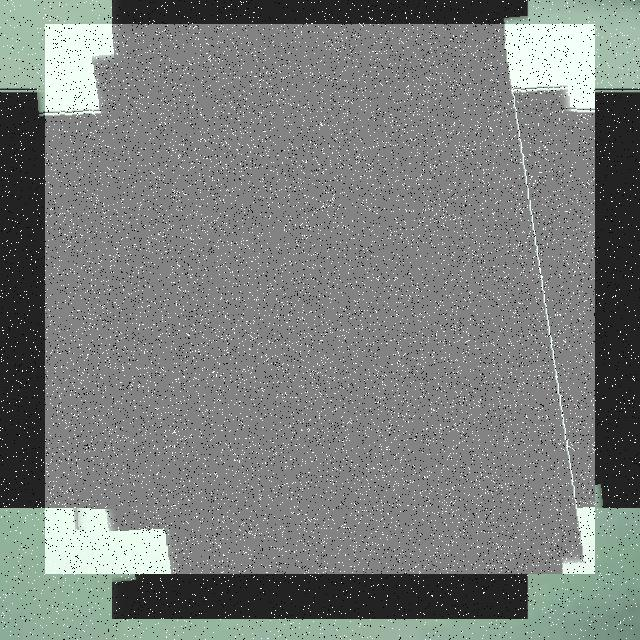dua ribu rupiah: (45, 24, 595, 574)
